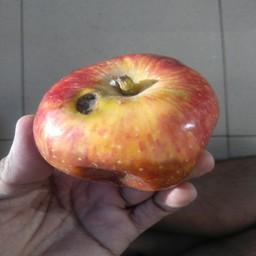Bad_apple: (30, 52, 222, 184)
